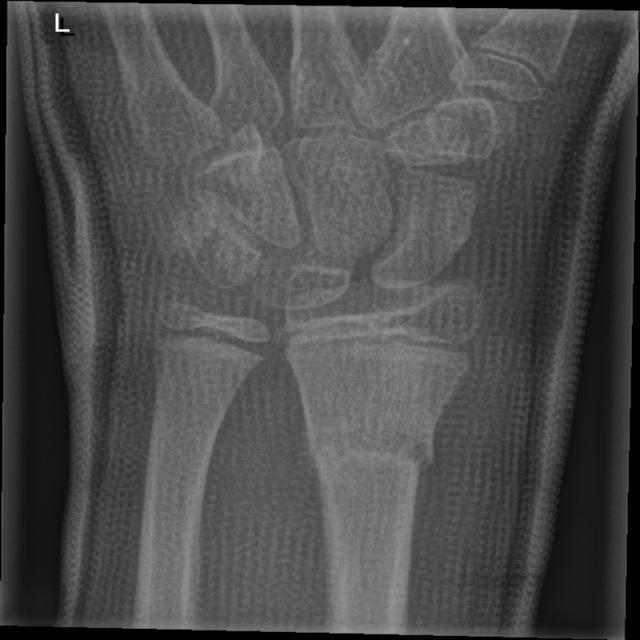radius fracture: (276, 379, 484, 584)
